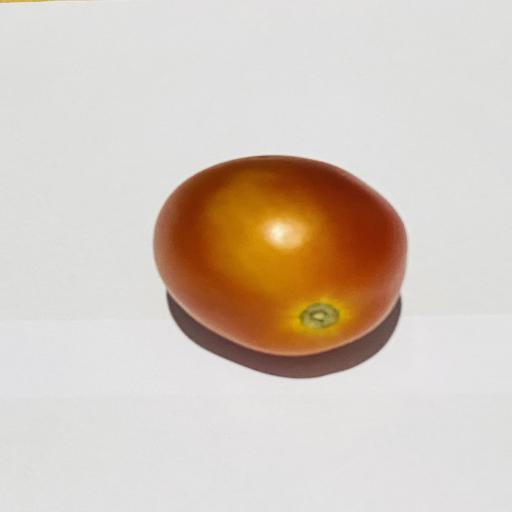ripe: (154, 156, 407, 355)
